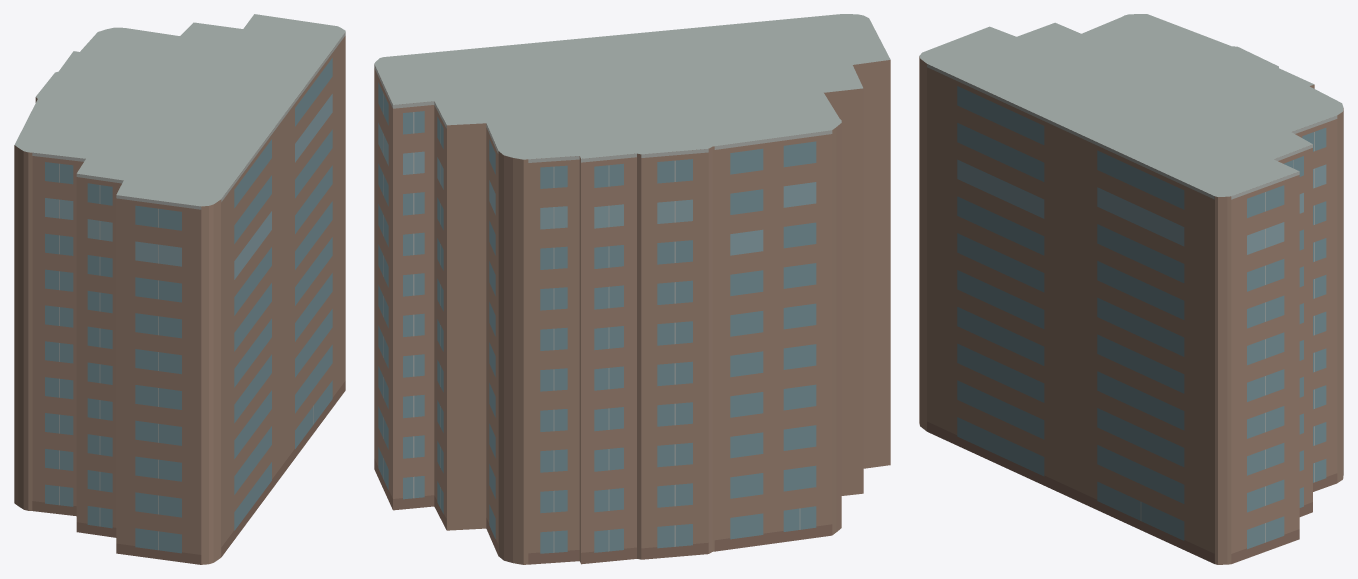
File: survey-upis-32607926.glb
3 renders of one model, left to right at view 1: azimuth 30°, elevation 25°; view 2: azimuth 150°, elevation 25°; view 3: azimuth 270°, elevation 25°, orthographic. The views are drawn at different scales.
Visible parts, largest first — view 1: survey-upis-32607926.tmp; view 2: survey-upis-32607926.tmp; view 3: survey-upis-32607926.tmp.
Part boxes in pixels (x1=…): survey-upis-32607926.tmp: x1=14, y1=14, x2=345, y2=564; survey-upis-32607926.tmp: x1=374, y1=14, x2=890, y2=564; survey-upis-32607926.tmp: x1=919, y1=14, x2=1343, y2=564.
Size of the model in its own units: 28.28 by 26.5 by 27.68.
